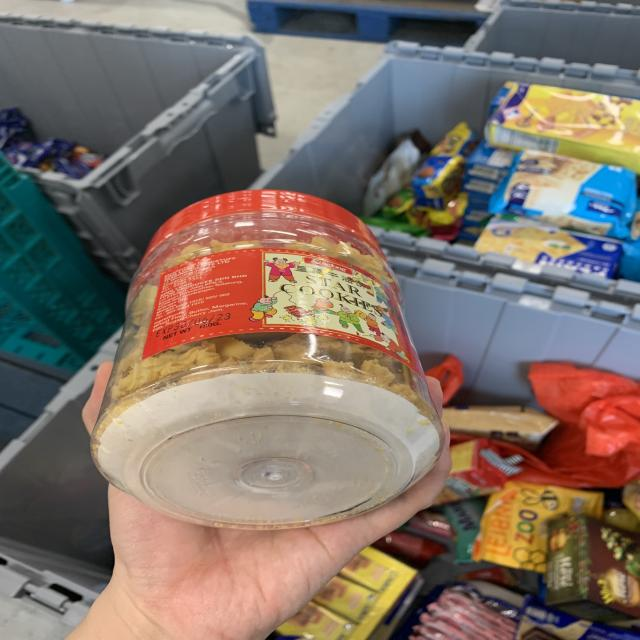object_name: (142, 216, 375, 484)
